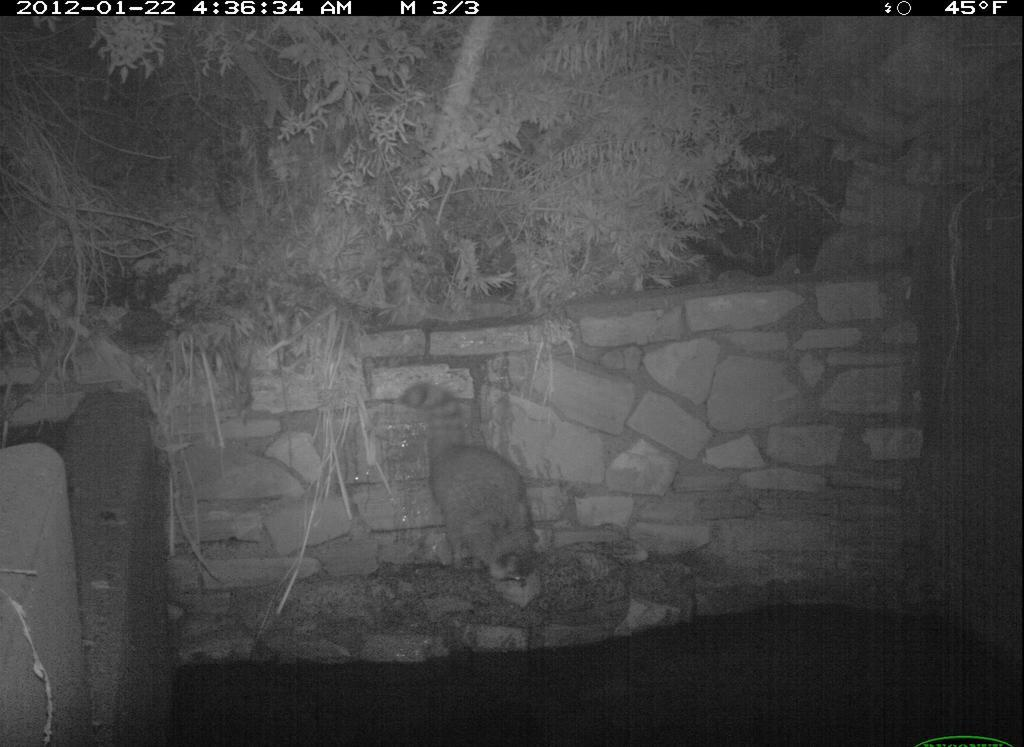raccoon: (402, 383, 552, 603)
